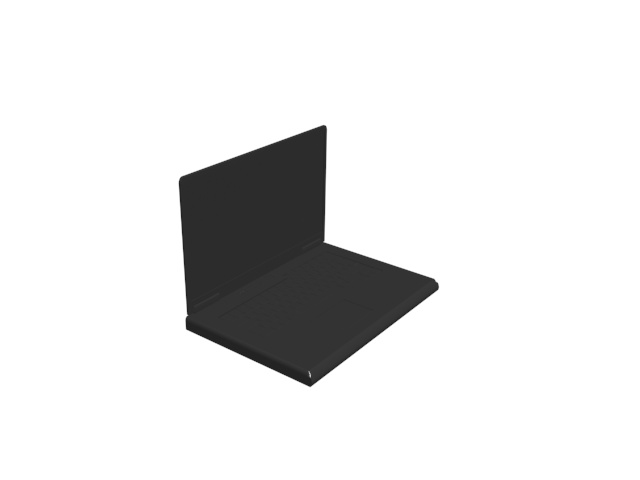laptop_computer: (177, 121, 440, 392)
